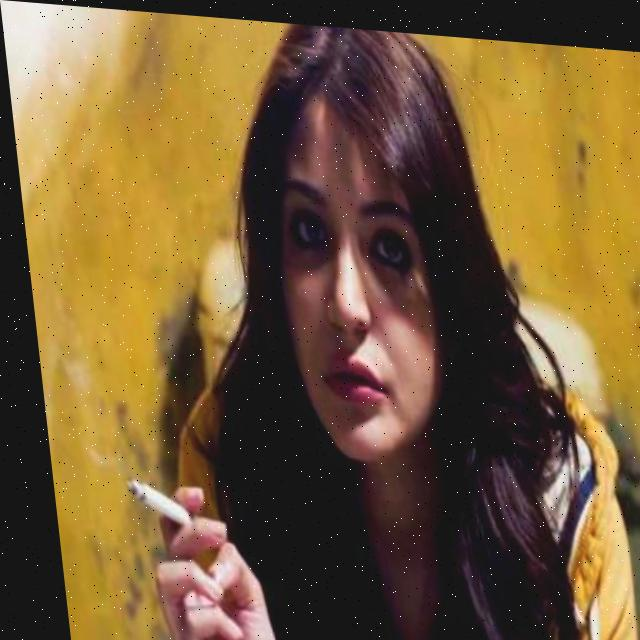cigarette: (110, 477, 186, 529)
